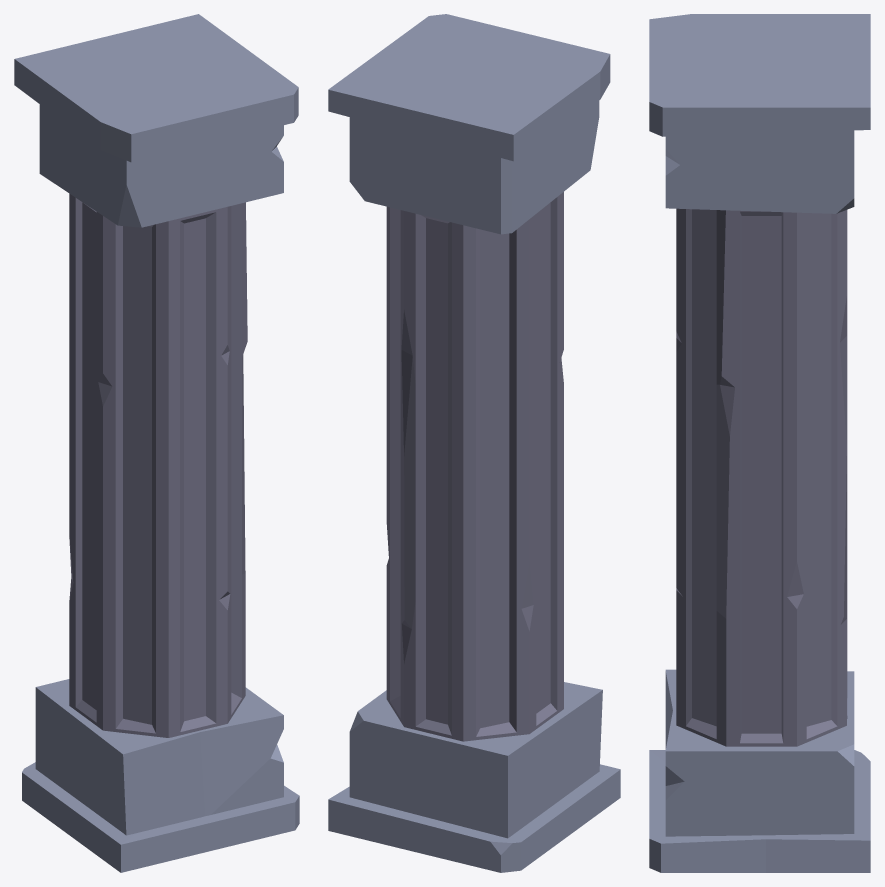
File: pillar_2.fbx
The picture shows the model from 3 angles, left to right: view 1: azimuth 30°, elevation 25°; view 2: azimuth 150°, elevation 25°; view 3: azimuth 270°, elevation 25°; orthographic projection. The views are drawn at different scales.
Visible parts, largest first — view 1: pillar_2; view 2: pillar_2; view 3: pillar_2.
Boxes of the visible parts, box(x1,y1,x2,y2) form: pillar_2: box(14, 14, 299, 872); pillar_2: box(328, 14, 620, 872); pillar_2: box(649, 14, 870, 872).
Bounding box in the file's own units: 119 × 453 × 119.
